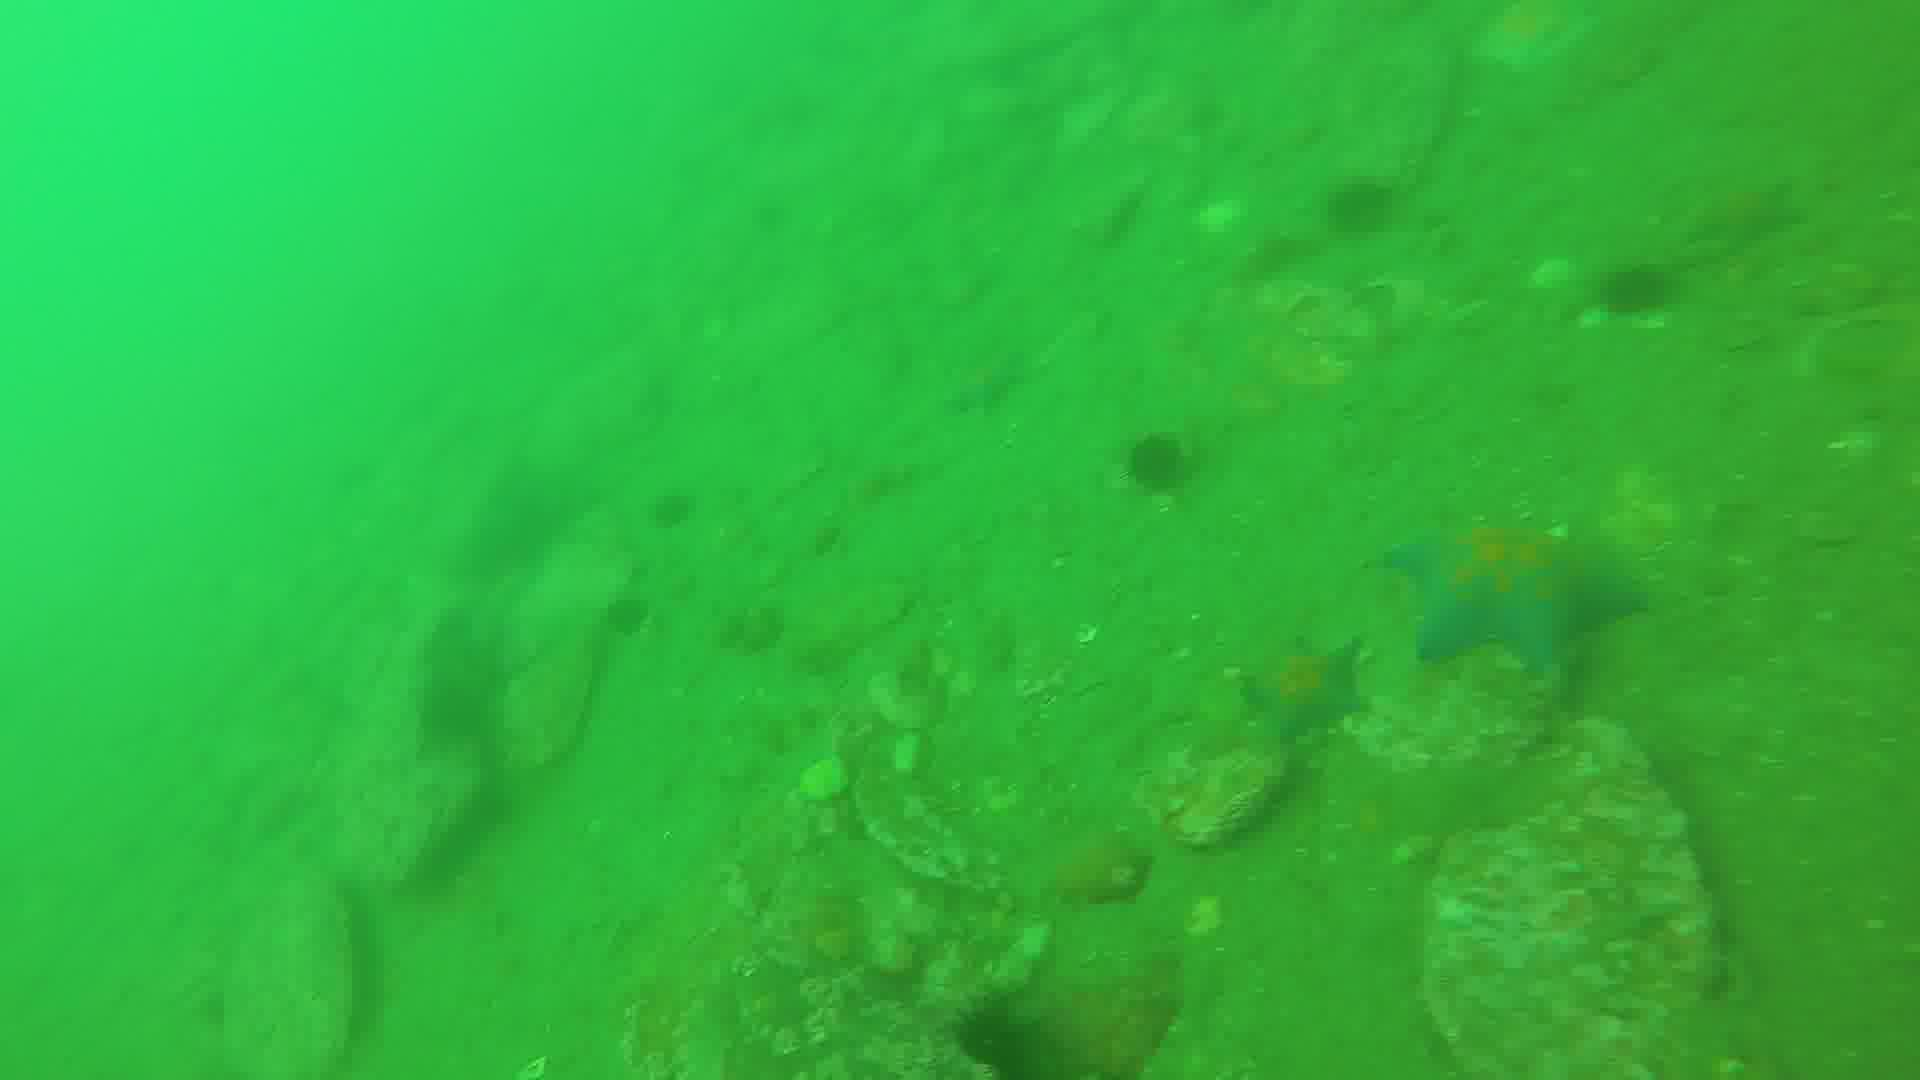echinus: (953, 1004, 1050, 1080), (1333, 177, 1403, 229), (1604, 265, 1662, 320), (1134, 433, 1185, 484)
starfish: (1379, 520, 1635, 674), (1253, 642, 1367, 738), (1687, 178, 1811, 258), (949, 353, 1029, 415)
